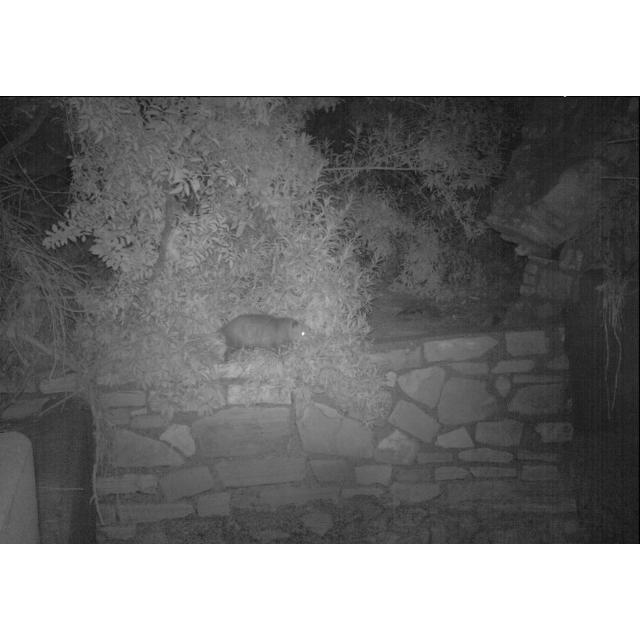animals: (182, 313, 318, 362)
